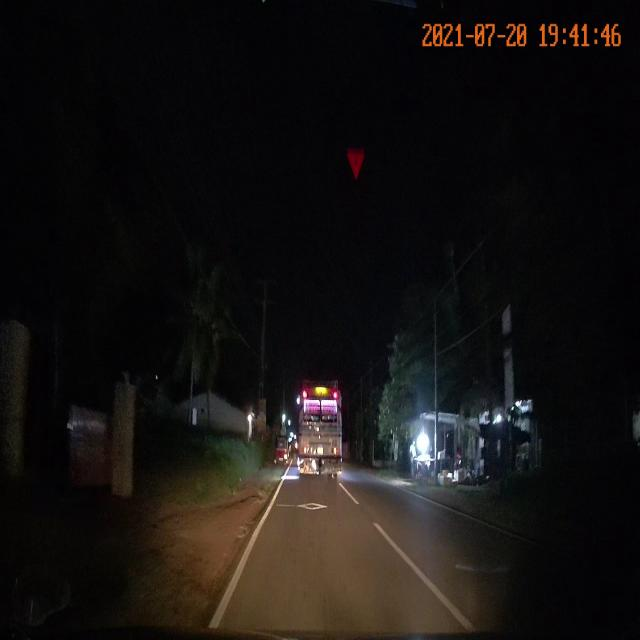diamond: (261, 486, 373, 516)
